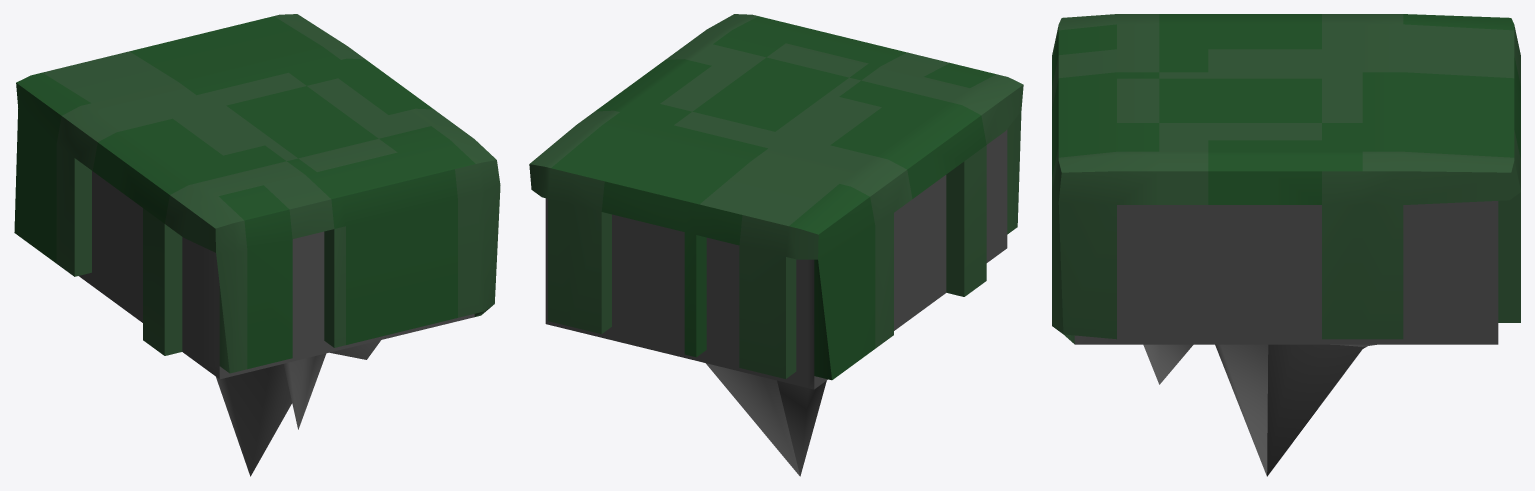
The model's file is PlataformaPequeña.fbx.
3 views of the same model, side by side, from view 1: azimuth 30°, elevation 25°; view 2: azimuth 150°, elevation 25°; view 3: azimuth 270°, elevation 25° (orthographic). The views are drawn at different scales.
Parts seen in each view (by area): view 1: pasted__pCube1; view 2: pasted__pCube1; view 3: pasted__pCube1.
Boxes of the visible parts, left/top/right/bottom form: pasted__pCube1: left=14, top=14, right=500, bottom=476; pasted__pCube1: left=529, top=14, right=1023, bottom=476; pasted__pCube1: left=1052, top=14, right=1520, bottom=476.
Bounding box in the file's own units: 4.18 × 4.77 × 5.09.
